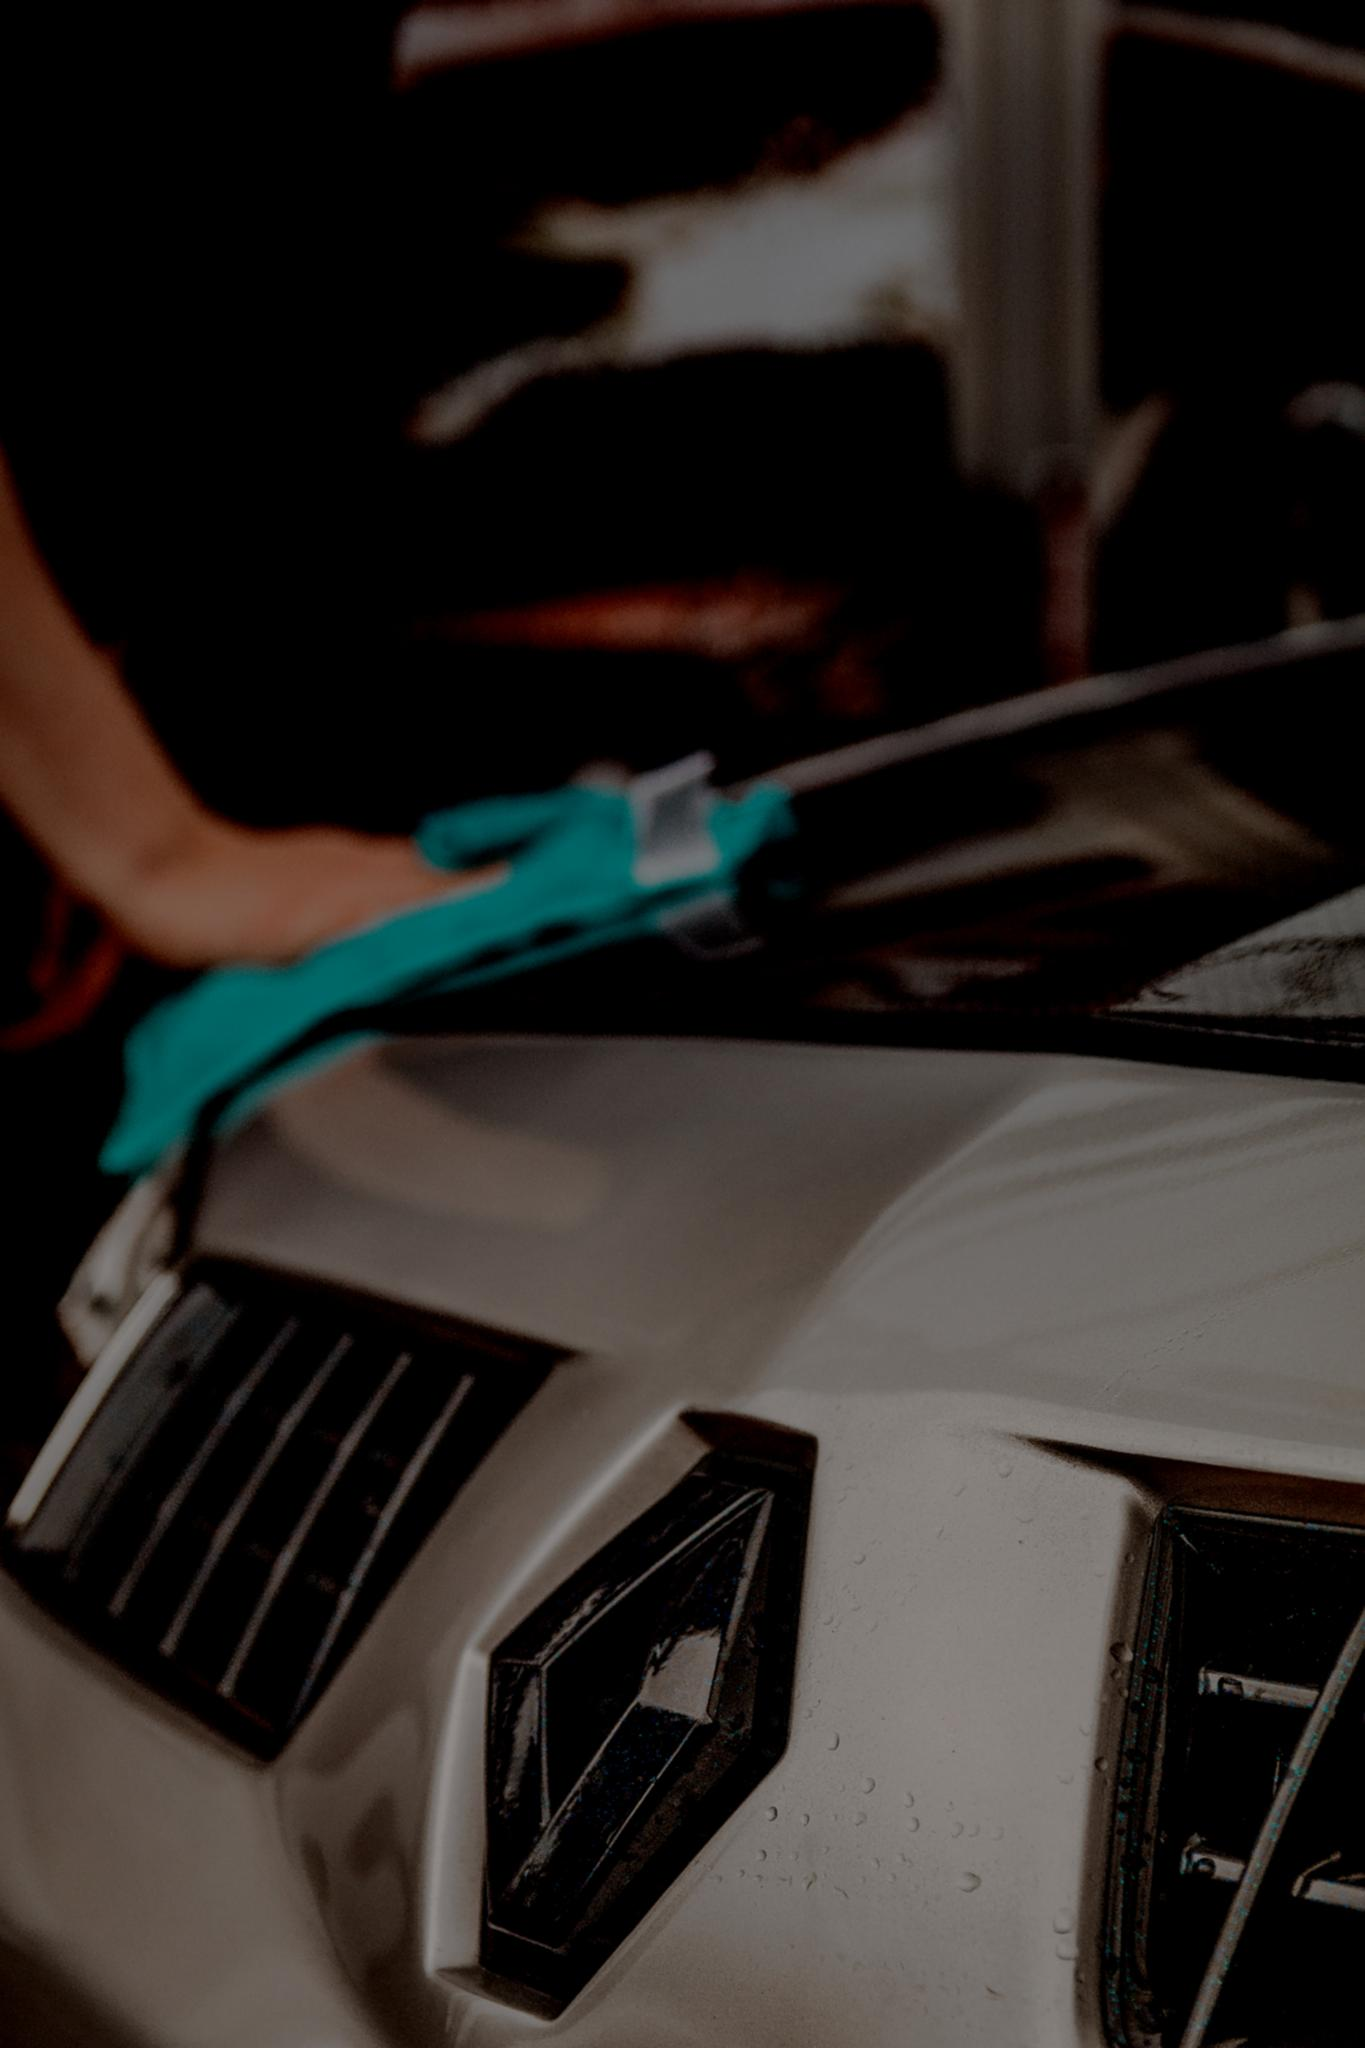Renault: (355, 1419, 858, 2015)
